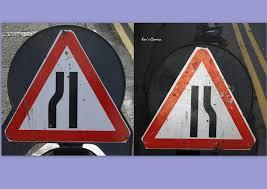narrow_road: (3, 28, 130, 143), (139, 42, 257, 151)
